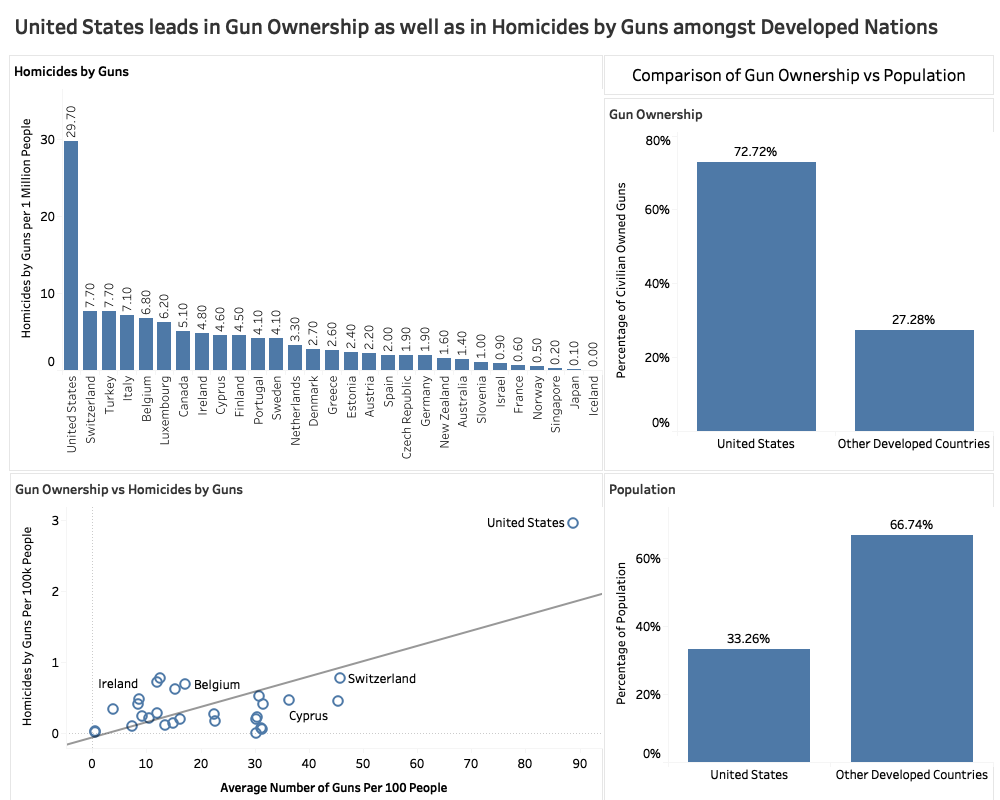

This screenshot's page, from the dashboard's own definition file:
{"tool":"tableau","page":{"name":"CountryAnalysis","canvas":[1000,800],"ordinal":0},"visuals":[{"type":"title","box":[8,8,984,36]},{"type":"worksheet","title":"country_gunHomicides","mark":"Automatic","rows":["Calculation_19632942008631296"],"cols":["Country"],"box":[9,55,594,416]},{"type":"text","box":[604,55,390,40]},{"type":"worksheet","title":"countrywise_USRest_gunOwnership","mark":"Automatic","rows":["avg_tot_all_guns"],"box":[604,98,390,373]},{"type":"worksheet","title":"countrywise_USRest_population","mark":"Automatic","rows":["pop2019"],"box":[604,473,390,328]}]}

Visuals, with their boxes in screenshot pixels (x1, y1, x2, y2), scaled from the page's 1000x800 canvas onto the 1000x800 screenshot:
title: (left=8, top=8, right=992, bottom=44)
"country_gunHomicides" worksheet: (left=9, top=55, right=603, bottom=471)
text: (left=604, top=55, right=994, bottom=95)
"countrywise_USRest_gunOwnership" worksheet: (left=604, top=98, right=994, bottom=471)
"countrywise_USRest_population" worksheet: (left=604, top=473, right=994, bottom=799)
